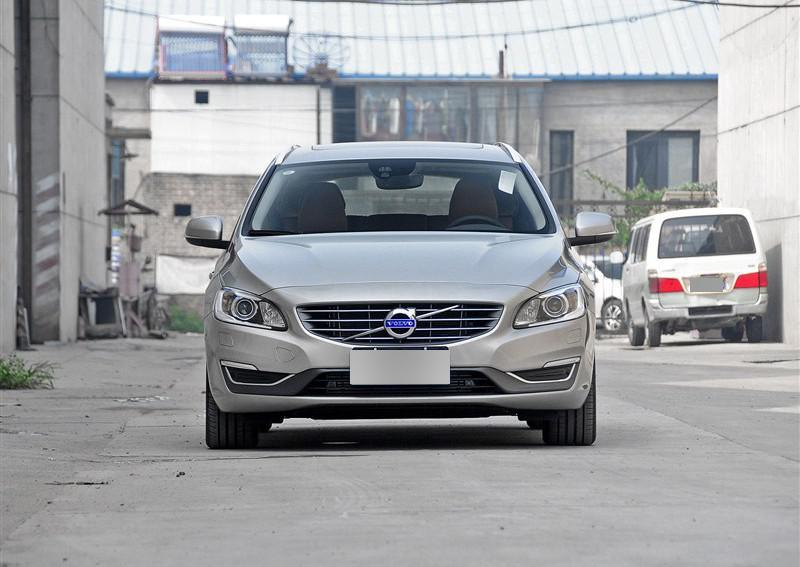Wagon: (178, 136, 621, 455)
